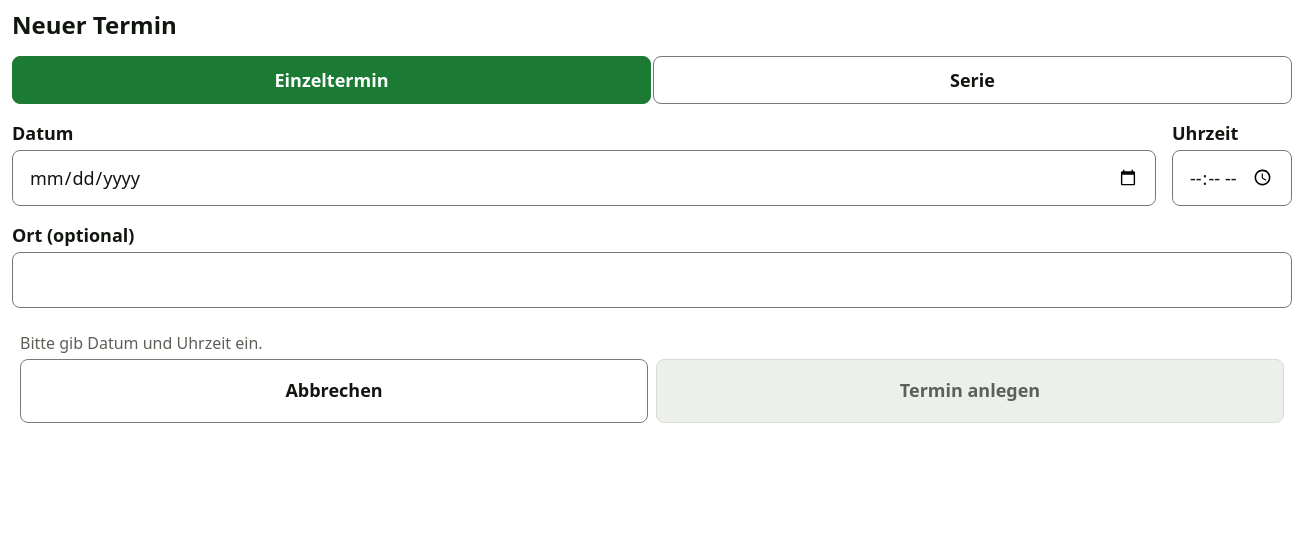
Test: AdminTerminNeu – Einzeltermin › TERMIN_BELEGT: Text am Uhrzeitfeld, Fokus dorthin, Eingaben bleiben, kein Seitenwechsel
This screenshot has width=1304, height=542.
In the date field with test id "termin-datum": [584, 178] box [12, 150, 1156, 206], type "2099-03-02"
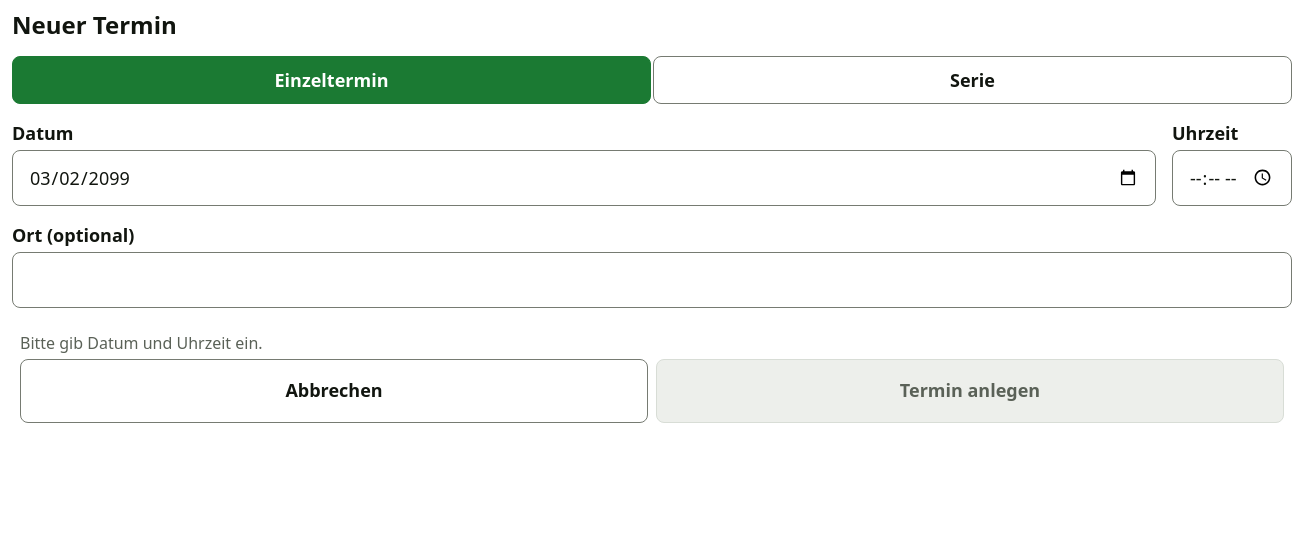
In the time field with test id "termin-uhrzeit": [1232, 178] box [1172, 150, 1292, 206], type "20:00"
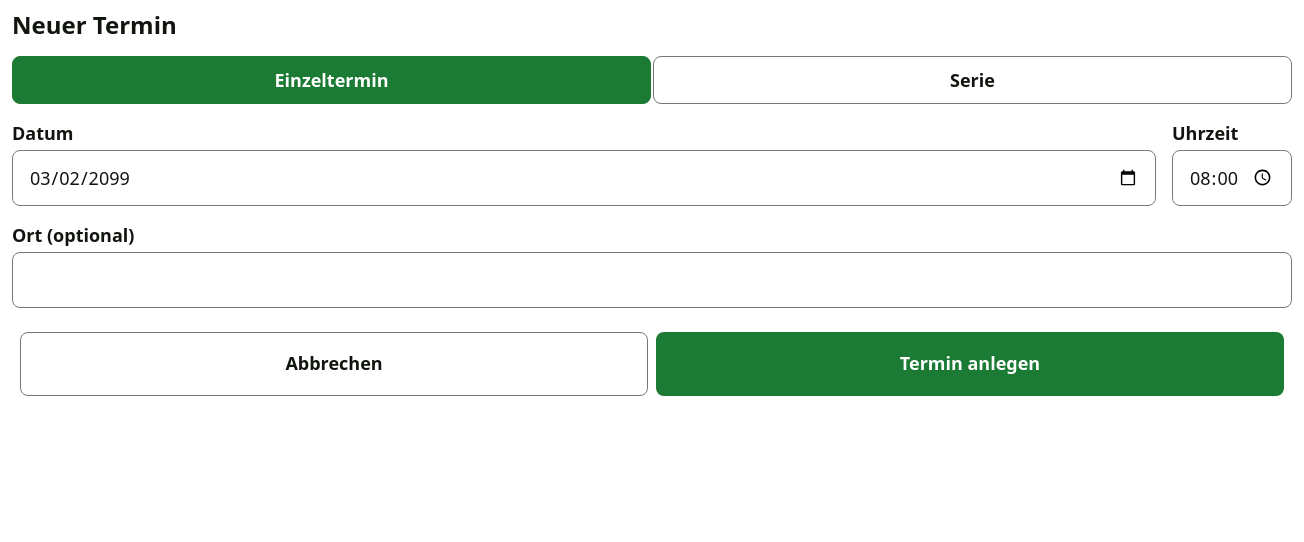
In the field with test id "termin-ort": [652, 280] box [12, 252, 1292, 308], type "Beispielhalle"
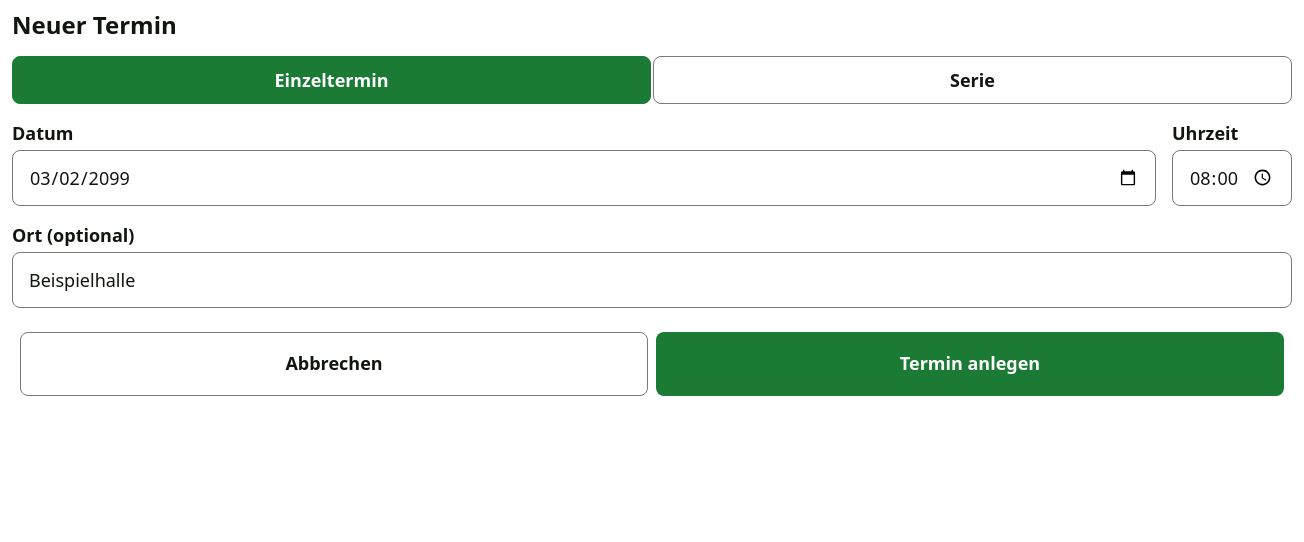
Click the button with test id "admin-termin-neu-absenden": [970, 364] box [656, 332, 1284, 396]
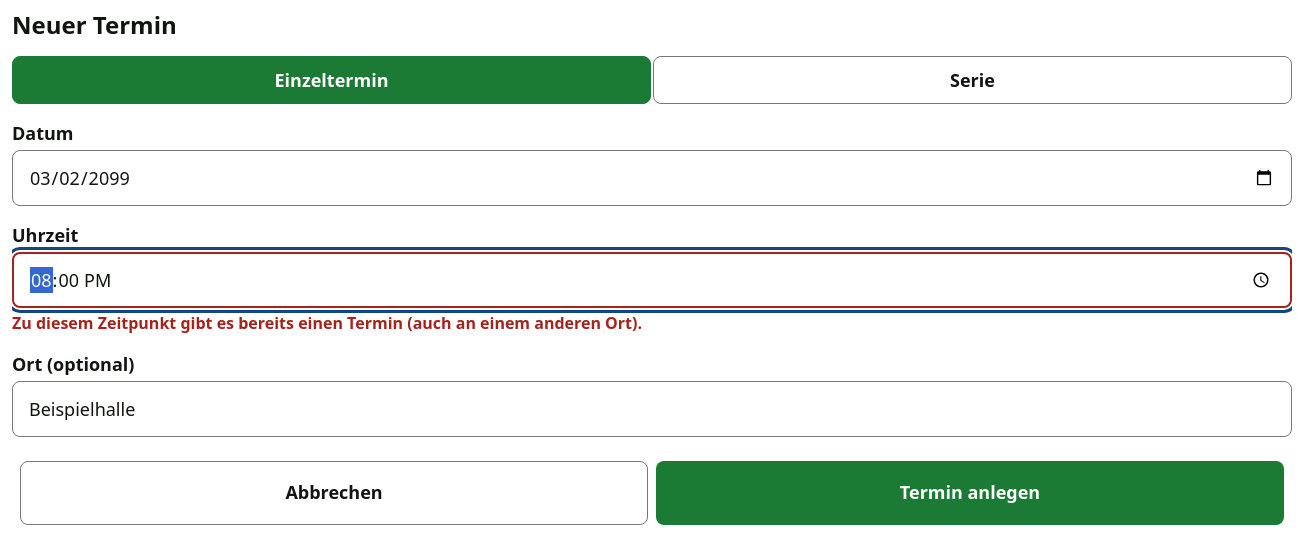
Expected: the text with test id "termin-uhrzeit-fehler" reads "Zu diesem Zeitpunkt gibt es bereits einen Termin (auch an einem anderen Ort).", [12, 312, 642, 334]
